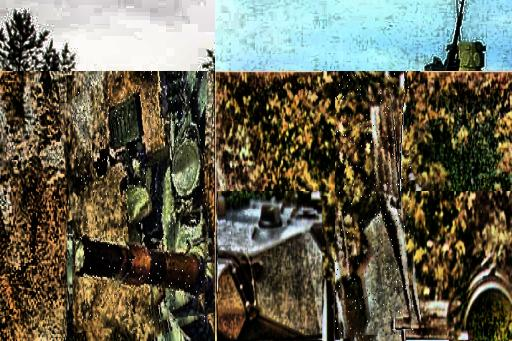tanks: (77, 72, 211, 324), (336, 72, 415, 341), (427, 1, 487, 72), (215, 184, 216, 202)
